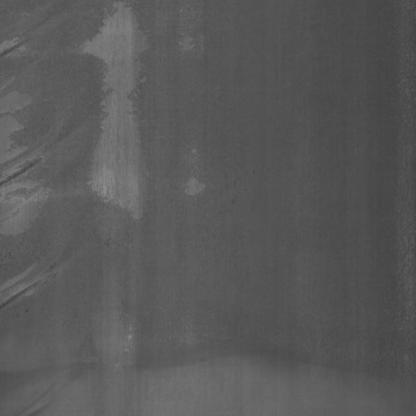crease: (0, 259, 75, 315), (0, 146, 50, 200), (0, 22, 40, 76)
